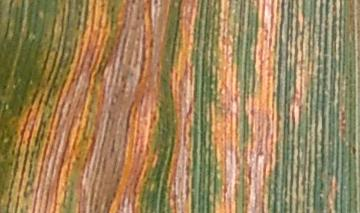tarspot: (351, 145, 357, 155)
